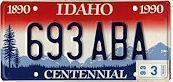placa de veiculo: (1, 1, 167, 77)
